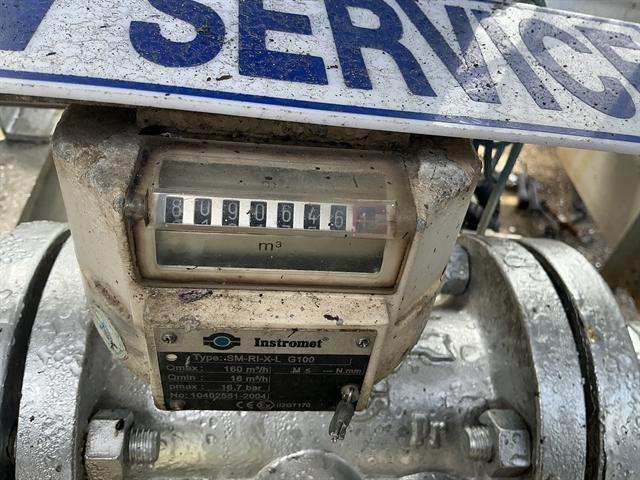analog_dial: (155, 194, 389, 234)
